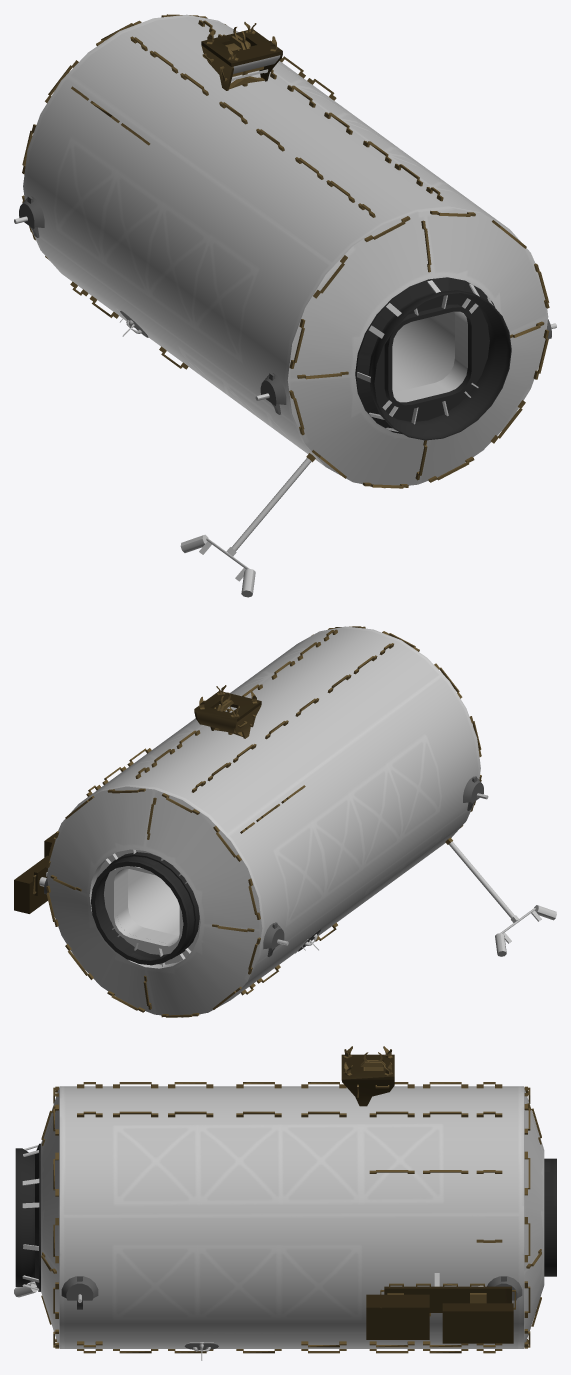
The model's file is IssModule_G.FBX.
The picture shows the model from 3 angles, top to bottom: view 1: azimuth 30°, elevation 25°; view 2: azimuth 150°, elevation 25°; view 3: azimuth 270°, elevation 25°; orthographic projection. The views are drawn at different scales.
Parts seen in each view (by area): view 1: IssModule_G; view 2: IssModule_G; view 3: IssModule_G.
Boxes of the visible parts, <box> form: IssModule_G: <box>14,14,556,597</box>; IssModule_G: <box>14,626,556,1017</box>; IssModule_G: <box>14,1046,556,1360</box>.
Size of the model in its own units: 367 by 339 by 509.
